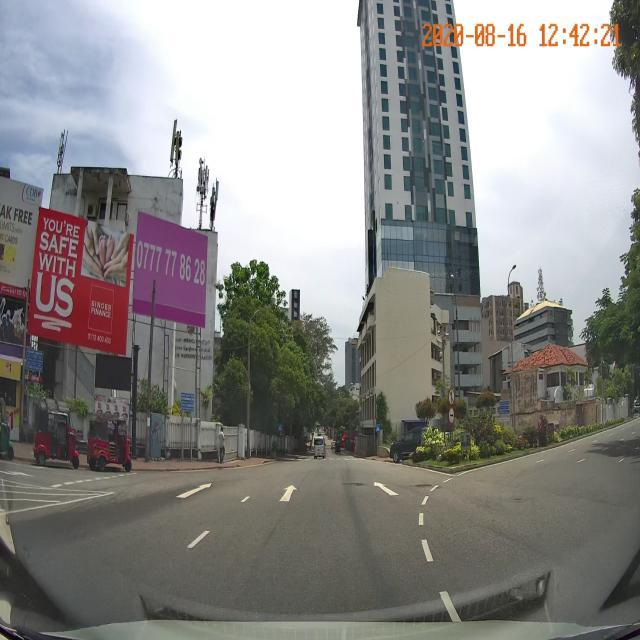forward: (208, 475, 389, 525)
